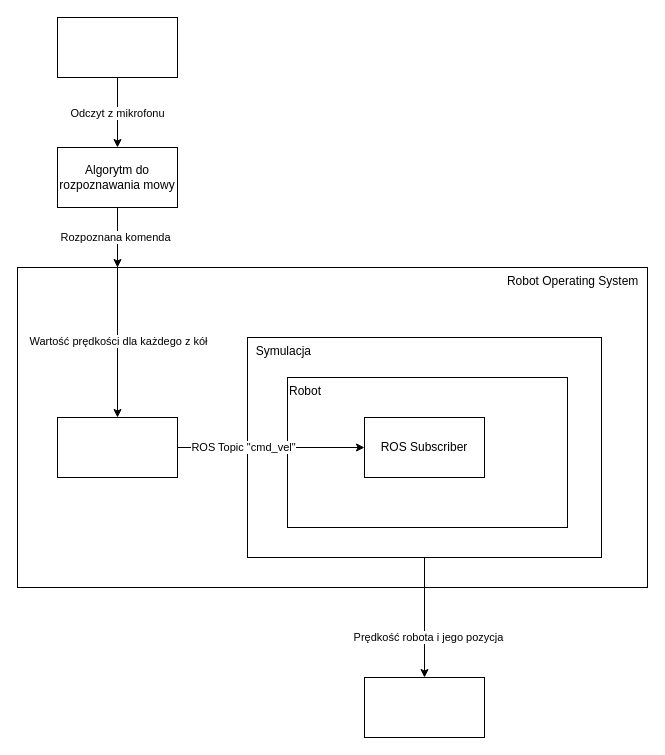
The diagram is 665 pixels wide and 755 high, and some of its shapes have lost their labels. Here are the shapes that lost their labels. From the top down, the centre of each, then its label:
(x=117, y=47): Wejście audio
(x=117, y=447): ROS Publisher
(x=424, y=707): Narzędzie do wizualizacji danych
